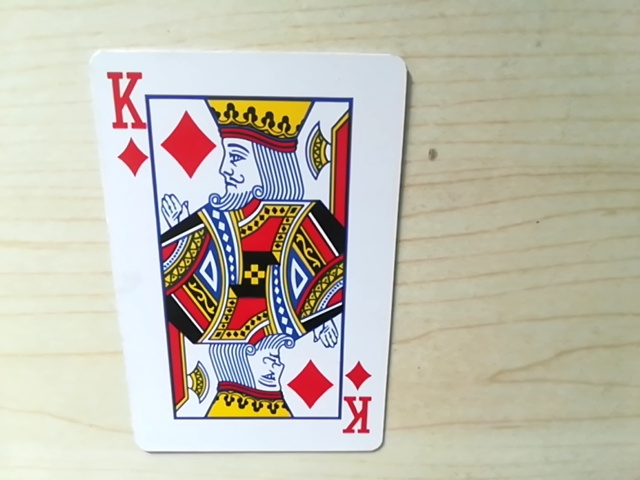fk k: (99, 64, 153, 126), (341, 392, 378, 438)
